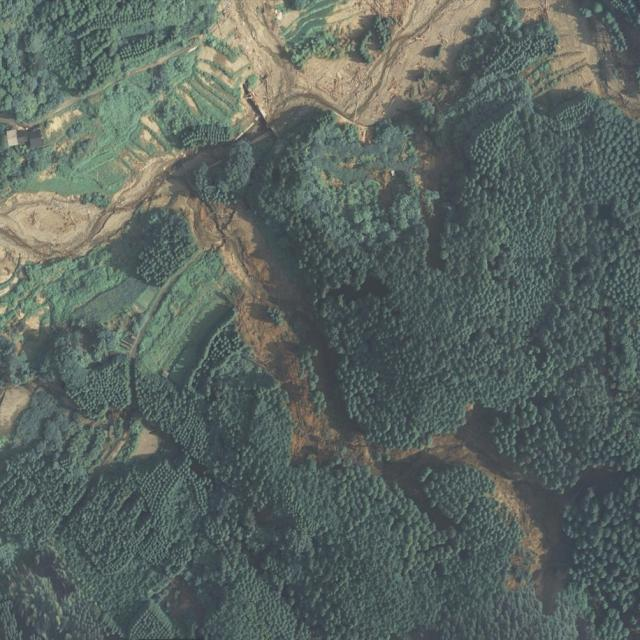landslide: (0, 152, 374, 465), (212, 0, 495, 140), (421, 419, 565, 593), (521, 0, 640, 120)
